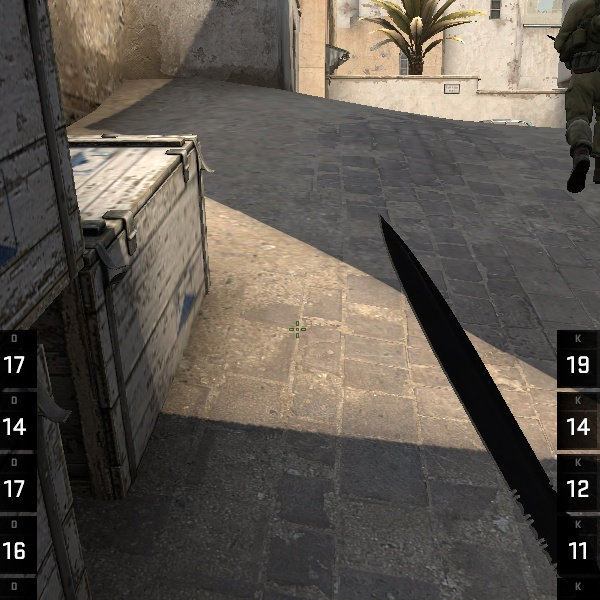ct_body: (553, 1, 600, 194)
